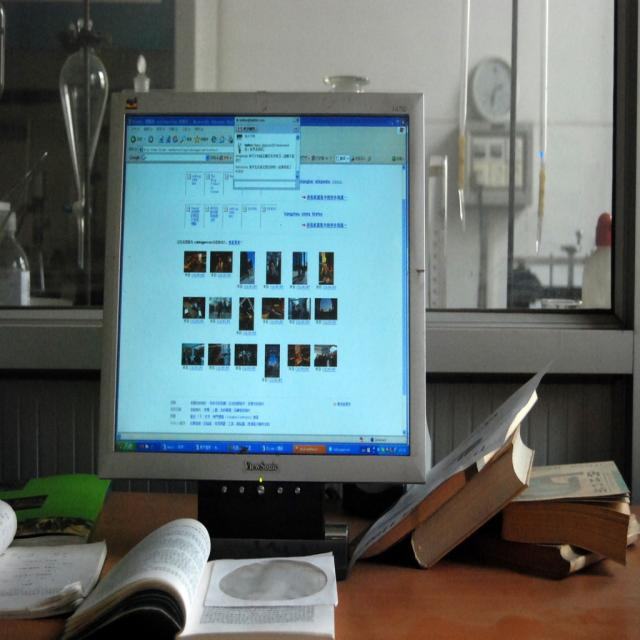desk: (2, 489, 637, 637)
person: (580, 211, 612, 310)
tv: (95, 88, 432, 496)
